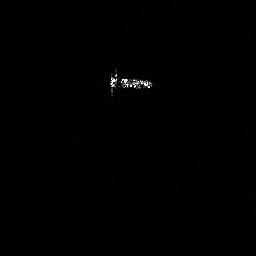ship: (106, 67, 155, 99)
